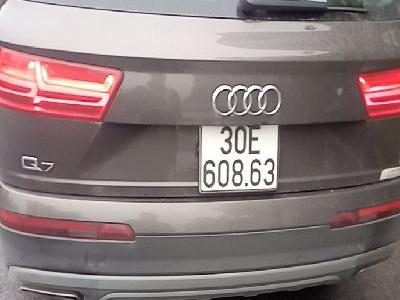car: (198, 124, 280, 193)
